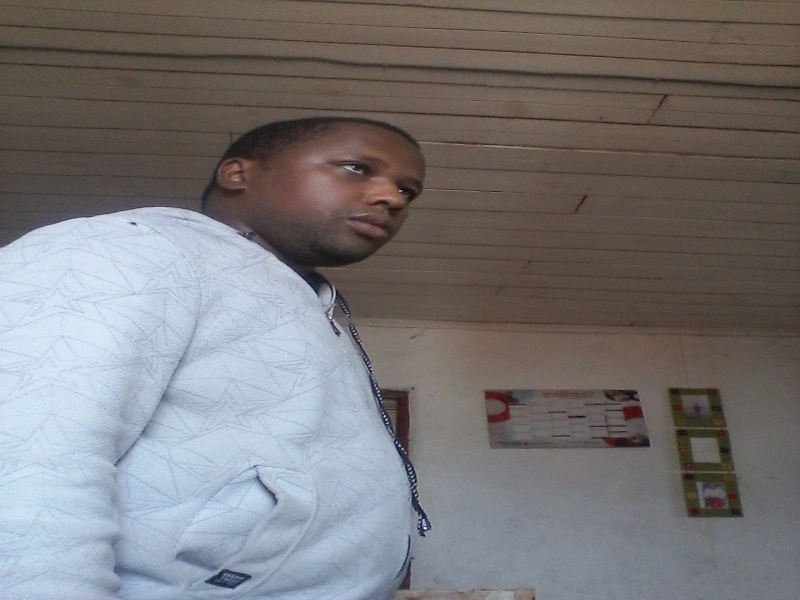TsisyArotava: (218, 99, 457, 284)
